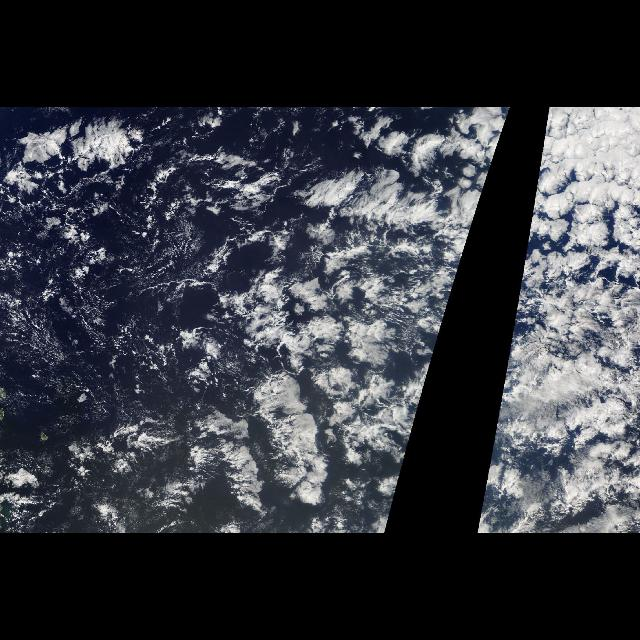Sugar: (2, 278, 182, 412)
